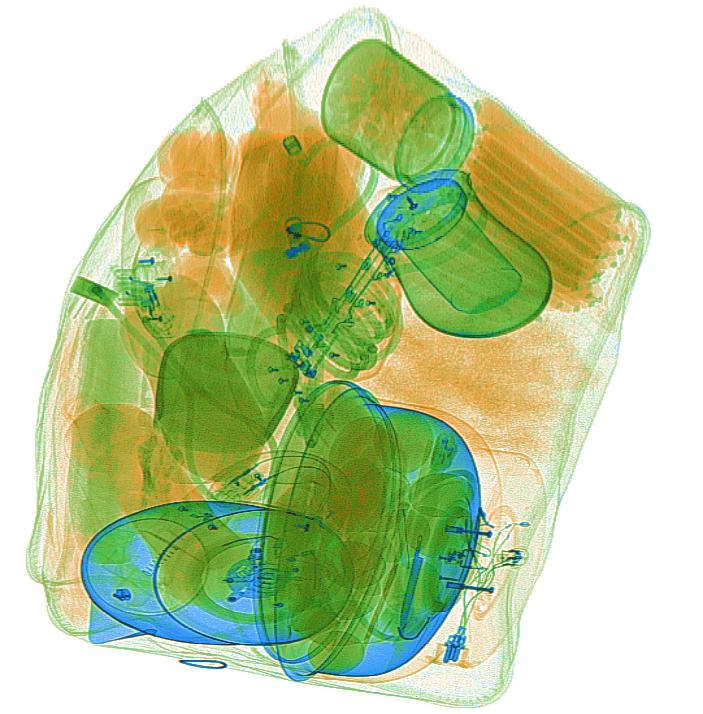knife: (398, 531, 426, 634)
plasticBottleWithaNozzle: (228, 64, 402, 385)
